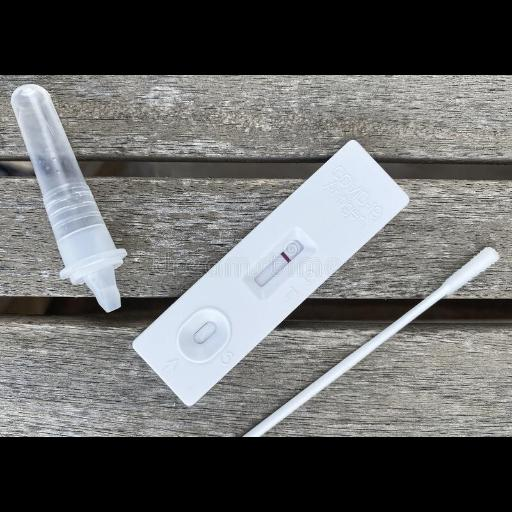Neg: (133, 137, 416, 409)
